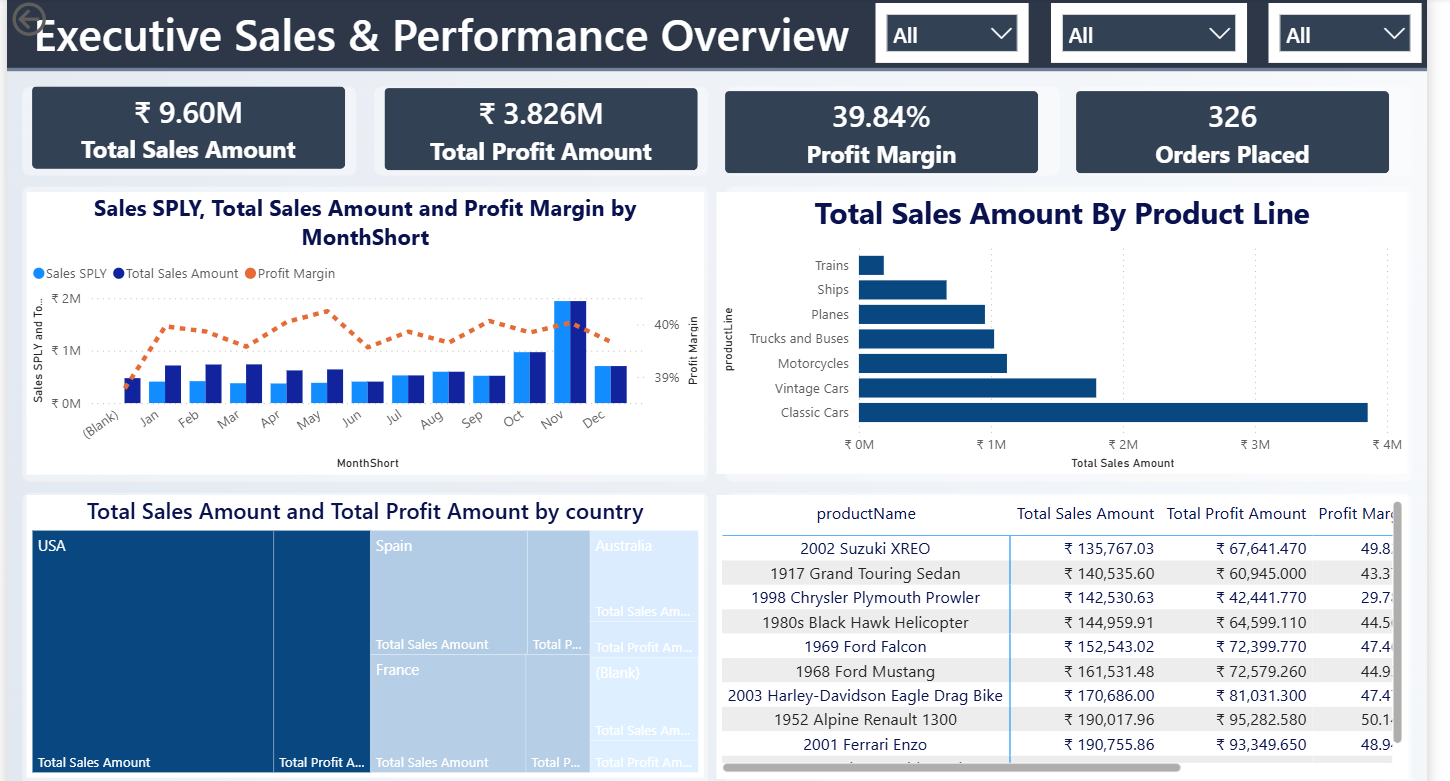

Layout of this report page (visuals, bound fields, positions):
{"tool":"powerbi","page":{"name":"Page 4","canvas":[1280,720],"ordinal":0},"visuals":[{"type":"textbox","title":"Executive Sales & Performance Overview","box":[19.3,5.3,877.3,61.3],"z":0},{"type":"slicer","fields":{"Values":["DimDate.Year"]},"box":[782.7,5.3,138.3,54.3],"z":1000},{"type":"slicer","fields":{"Values":["products.productLine"]},"box":[940.3,5.3,176.9,54.3],"z":2000},{"type":"slicer","fields":{"Values":["customers.country"]},"box":[1136.4,5.3,138.3,54.3],"z":3000},{"type":"cardVisual","fields":{"Data":["_Measures.Total Sales Amount"]},"box":[5.3,63,316.9,108.6],"z":4000},{"type":"cardVisual","fields":{"Data":["_Measures.Total Profit Amount"]},"box":[322.6,64.8,316.8,108],"z":5000},{"type":"cardVisual","fields":{"Data":["_Measures.Profit Margin"]},"box":[629.3,67.7,316.8,108],"z":6000},{"type":"cardVisual","fields":{"Data":["_Measures.Orders Placed"]},"box":[946.1,67.7,316.8,108],"z":7000},{"type":"lineClusteredColumnComboChart","fields":{"Y":["_Measures.Sales SPLY","_Measures.Total Sales Amount"],"Category":["DimDate.MonthShort"],"Y2":["_Measures.Profit Margin"]},"box":[17.3,175.7,610.6,254.9],"z":8000},{"type":"clusteredBarChart","title":"Total Sales Amount By Product Line","fields":{"Category":["products.productLine"],"Y":["_Measures.Total Sales Amount"]},"box":[640,175.7,622.9,254.3],"z":9000},{"type":"treemap","fields":{"Group":["customers.country"],"Values":["_Measures.Total Sales Amount","_Measures.Total Profit Amount"]},"box":[17.3,449.3,610.6,254.9],"z":10000},{"type":"pivotTable","fields":{"Rows":["products.productName"],"Values":["_Measures.Total Sales Amount","_Measures.Total Profit Amount","_Measures.Profit Margin","_Measures.Product Sales Rank"]},"box":[640,448.5,623.2,255.3],"z":11000},{"type":"actionButton","box":[0,0,100,40],"z":12000}]}

Visuals, with their boxes on the page's 1280x720 design canvas (x1, y1, x2, y2). These are canvas units, not pixel positions in the 1450x781 screenshot, which may show the page scaled, cropped or inside an application window:
"Executive Sales & Performance Overview" textbox: {"left": 19, "top": 5, "right": 897, "bottom": 67}
slicer - DimDate.Year: {"left": 783, "top": 5, "right": 921, "bottom": 60}
slicer - products.productLine: {"left": 940, "top": 5, "right": 1117, "bottom": 60}
slicer - customers.country: {"left": 1136, "top": 5, "right": 1275, "bottom": 60}
cardVisual - _Measures.Total Sales Amount: {"left": 5, "top": 63, "right": 322, "bottom": 172}
cardVisual - _Measures.Total Profit Amount: {"left": 323, "top": 65, "right": 639, "bottom": 173}
cardVisual - _Measures.Profit Margin: {"left": 629, "top": 68, "right": 946, "bottom": 176}
cardVisual - _Measures.Orders Placed: {"left": 946, "top": 68, "right": 1263, "bottom": 176}
lineClusteredColumnComboChart - _Measures.Sales SPLY x _Measures.Total Sales Amount: {"left": 17, "top": 176, "right": 628, "bottom": 431}
"Total Sales Amount By Product Line" clusteredBarChart: {"left": 640, "top": 176, "right": 1263, "bottom": 430}
treemap - customers.country x _Measures.Total Sales Amount: {"left": 17, "top": 449, "right": 628, "bottom": 704}
pivotTable - products.productName x _Measures.Total Sales Amount: {"left": 640, "top": 448, "right": 1263, "bottom": 704}
actionButton: {"left": 0, "top": 0, "right": 100, "bottom": 40}
